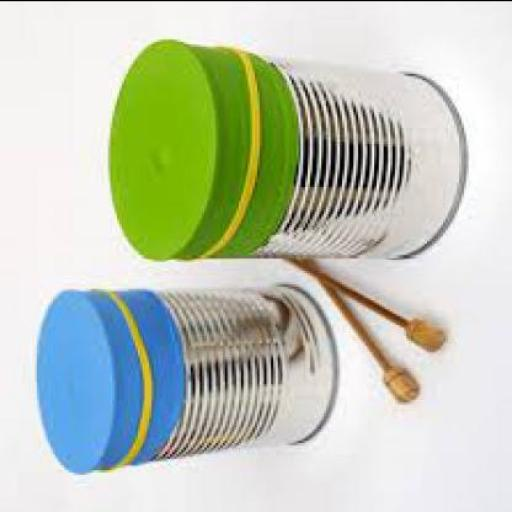metal: (247, 50, 464, 258), (99, 283, 335, 460)
